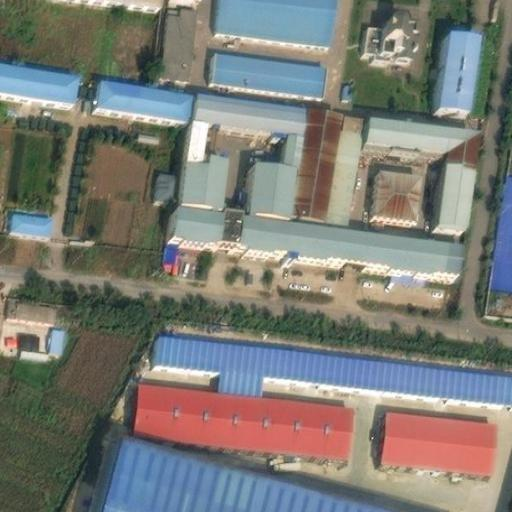building: (158, 330, 512, 398), (93, 441, 383, 512), (172, 199, 466, 266), (132, 379, 355, 451), (364, 108, 478, 218), (188, 87, 308, 161), (379, 405, 498, 470), (295, 101, 342, 217), (212, 43, 327, 89), (217, 0, 334, 35), (329, 105, 361, 220), (97, 75, 188, 114), (440, 23, 480, 104), (247, 155, 301, 213), (0, 55, 76, 95), (181, 147, 228, 205), (160, 0, 197, 72), (364, 5, 417, 55), (374, 161, 422, 215), (492, 170, 512, 283), (7, 291, 56, 315), (12, 208, 54, 230), (44, 326, 65, 356), (158, 243, 179, 272), (15, 347, 50, 364), (153, 164, 175, 189)
